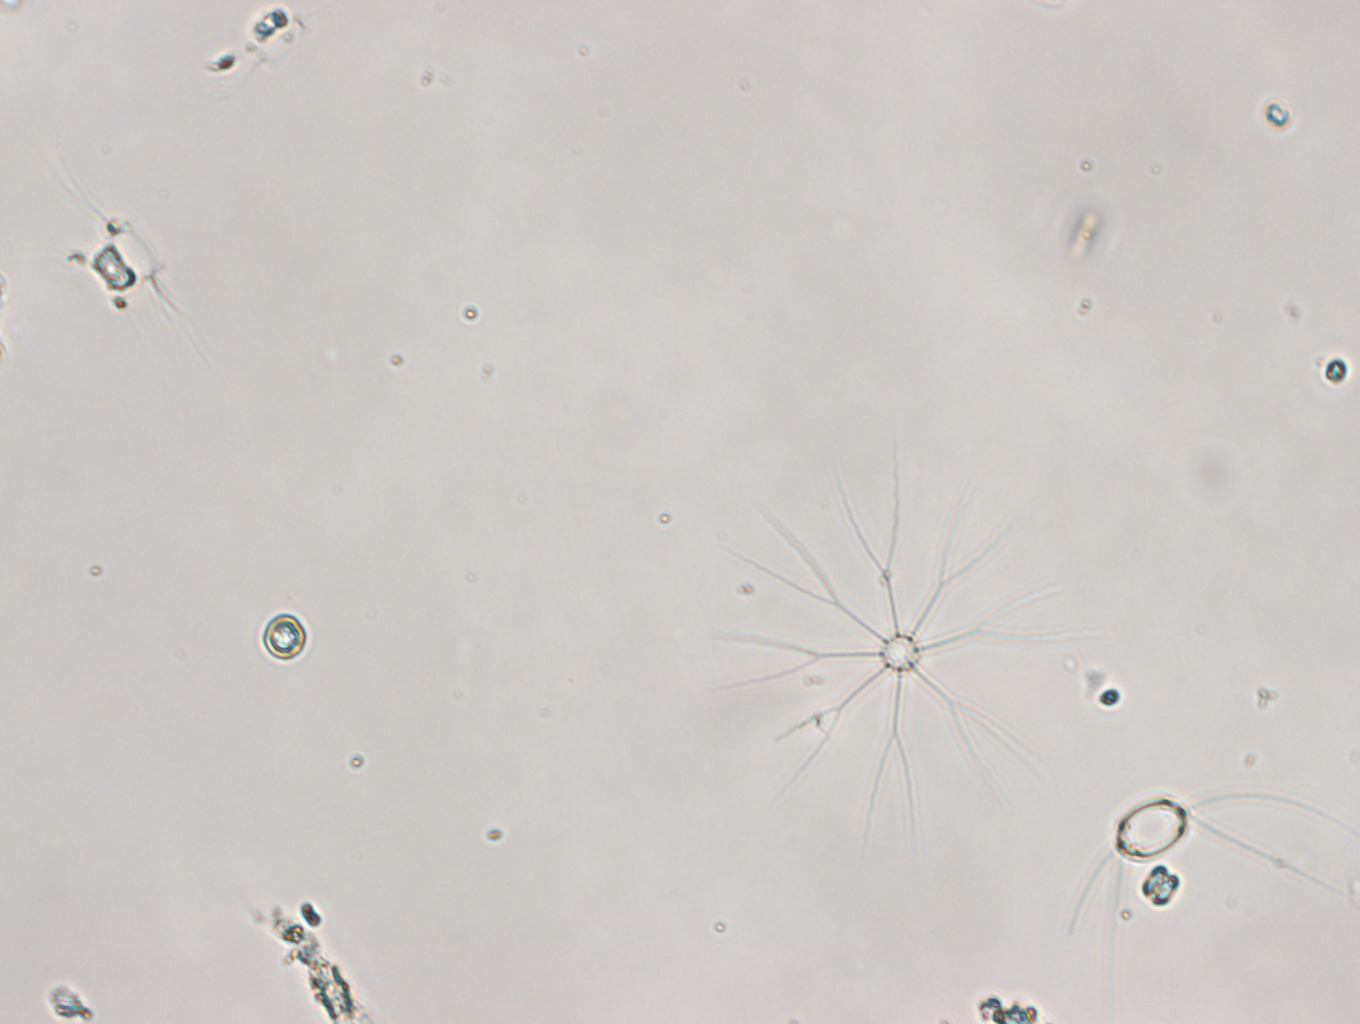bacteriastrum: (711, 439, 1085, 839)
chaetoceros: (1064, 791, 1360, 942), (56, 157, 211, 369)
